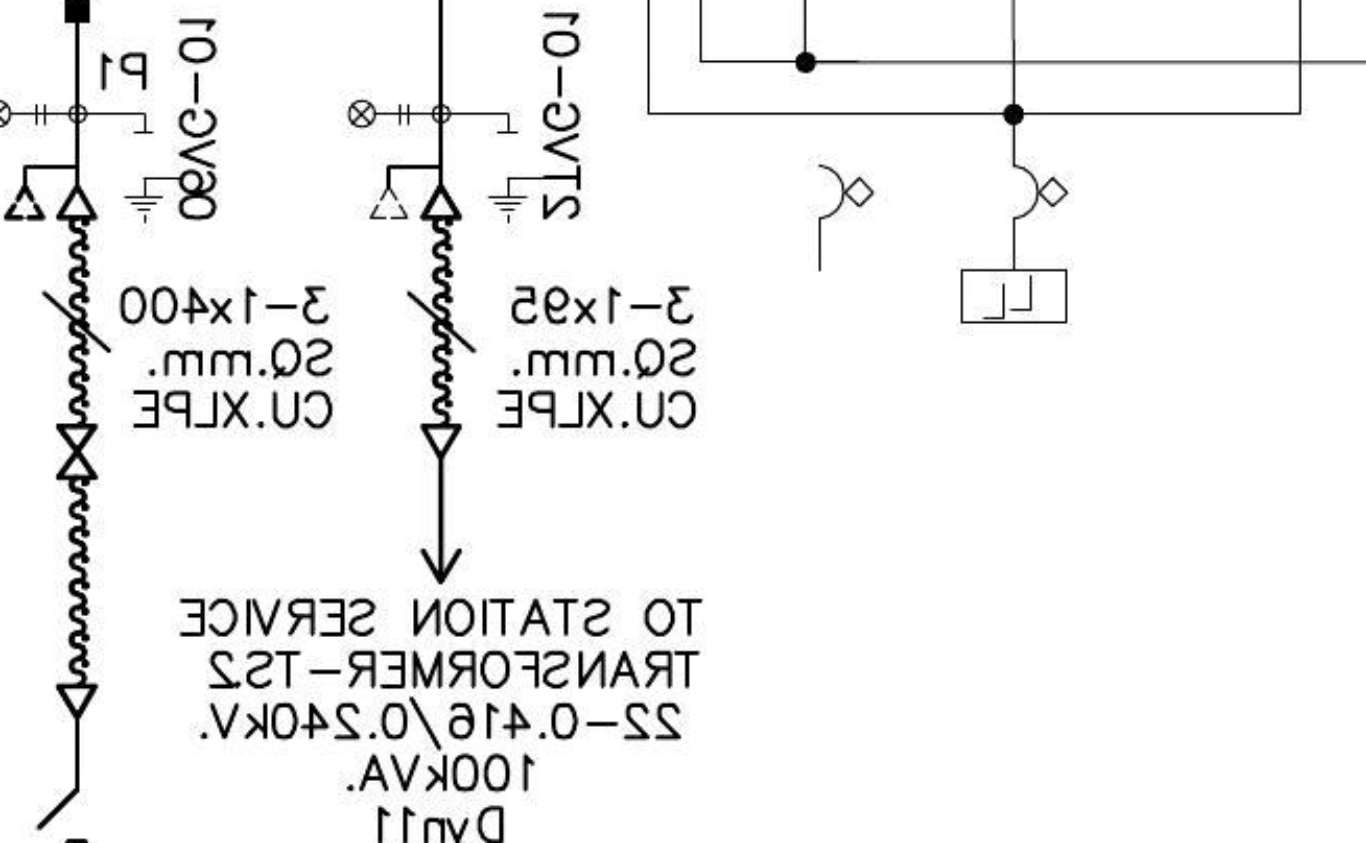22_gs: (488, 130, 546, 226), (123, 130, 181, 225)
22_ll: (346, 98, 412, 129)
LL: (957, 266, 1071, 327)
terminator_single: (53, 681, 101, 721), (416, 421, 463, 461)
terminator_splicing_kits: (55, 423, 99, 482)
terminator_w_future: (366, 160, 464, 221), (3, 162, 101, 223)
